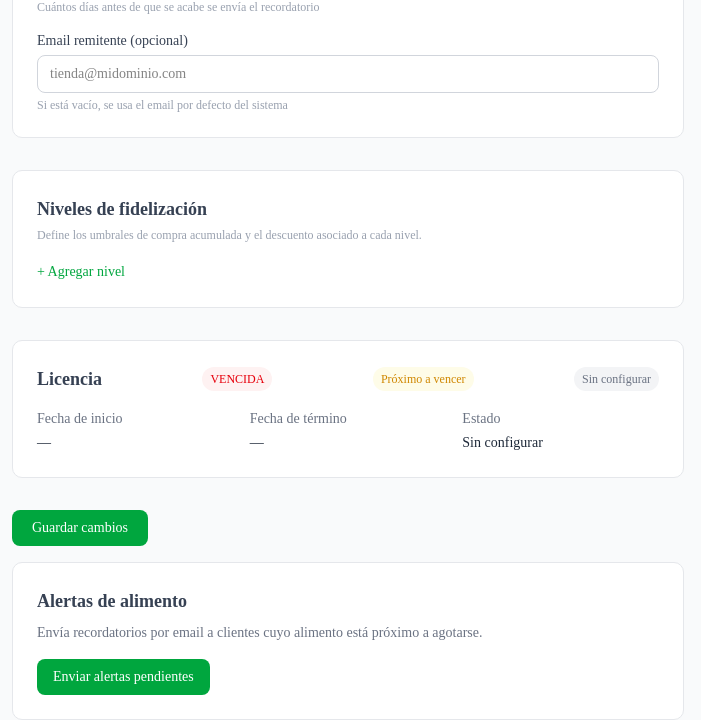
Scenario: SettingsPage — enviar alertas pendientes (C-90) › C-90: un 403 del servidor se muestra en pantalla, no se silencia
The width and height of the screenshot is (701, 720).
(page scrolled)
Step 1. Click the button "Enviar alertas pendientes" → (123, 677), box [37,659,210,695]
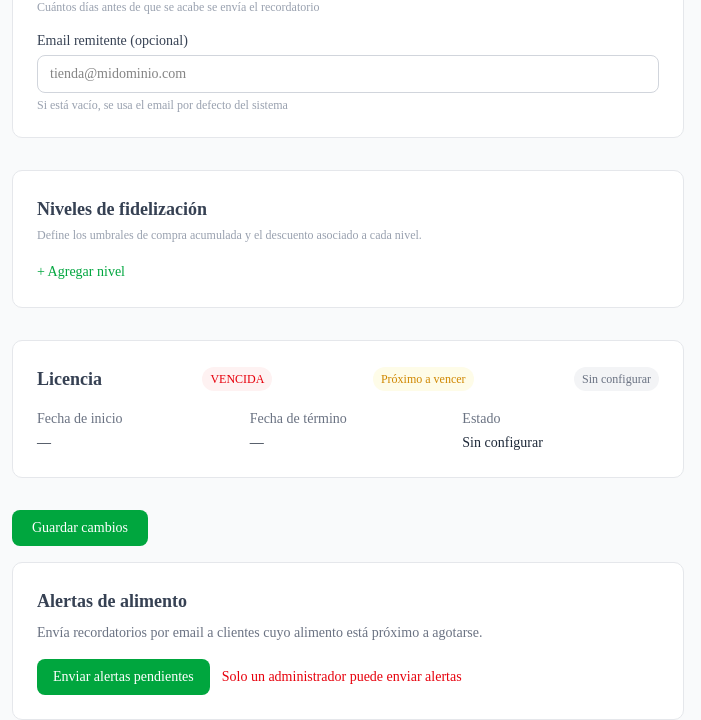
Now the message reads "Solo un administrador puede enviar alertas", box [222,669,462,684]
